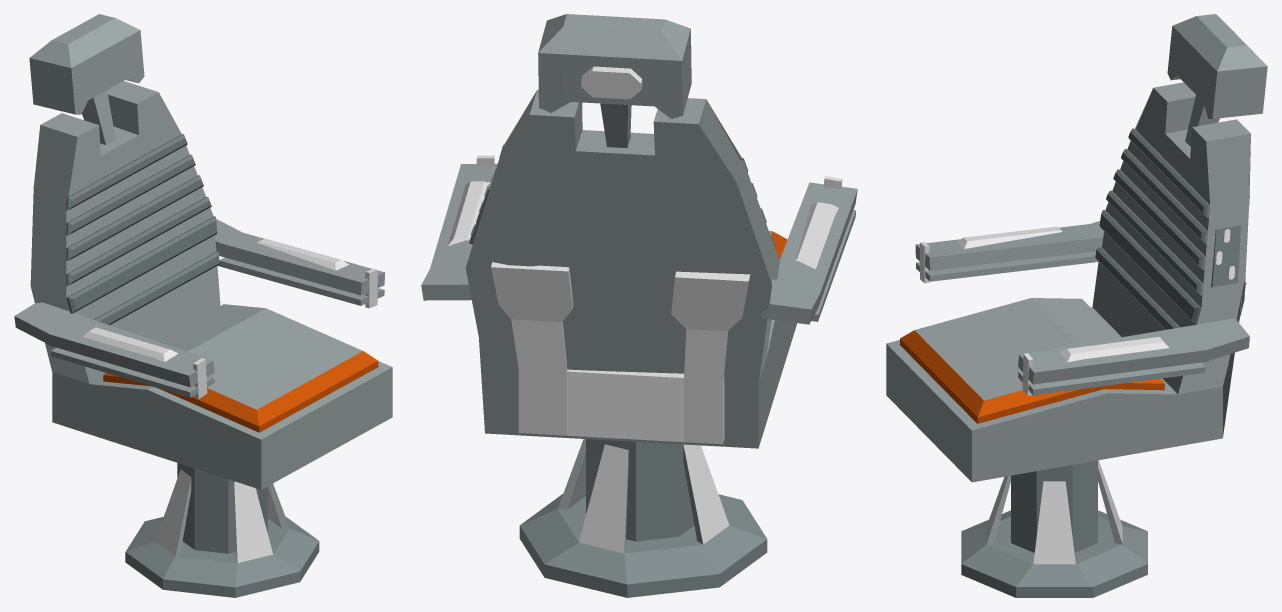
Rendered from Chair-2.fbx.
3 renders of one model, left to right at view 1: azimuth 30°, elevation 25°; view 2: azimuth 150°, elevation 25°; view 3: azimuth 270°, elevation 25°, orthographic. The views are drawn at different scales.
Parts seen in each view (by area): view 1: Chair-2; view 2: Chair-2; view 3: Chair-2.
Boxes of the visible parts, x1,y1,x2,y2 form: Chair-2: (14,14,392,597); Chair-2: (421,14,857,597); Chair-2: (886,14,1267,597).
Size of the model in its own units: 1.3 by 1.86 by 1.29.
